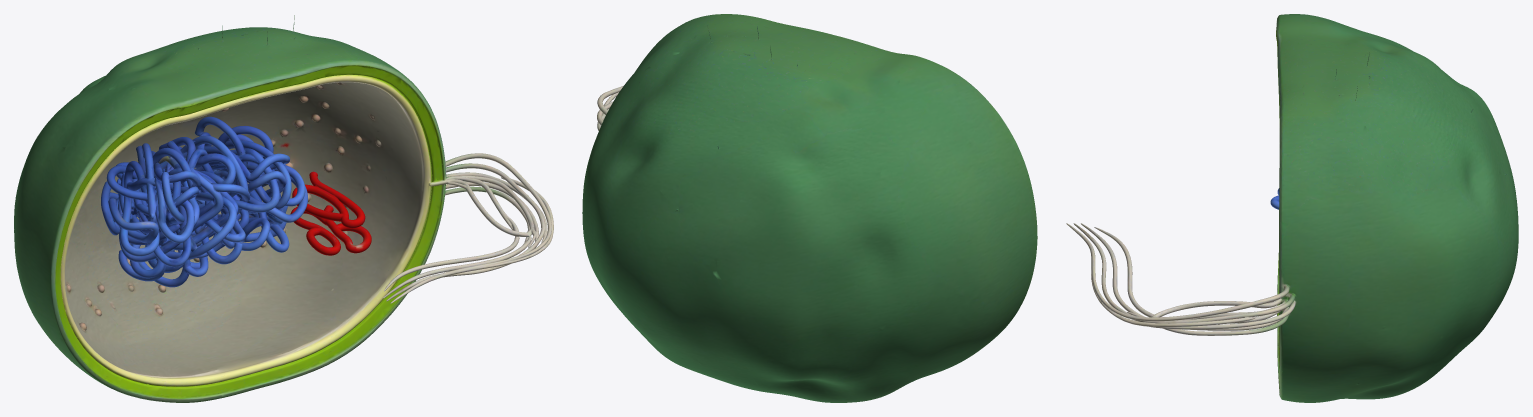
Rendered from bacterial-cell.glb.
3 views of the same model, side by side, from view 1: azimuth 30°, elevation 25°; view 2: azimuth 150°, elevation 25°; view 3: azimuth 270°, elevation 25° (orthographic). The views are drawn at different scales.
Visible parts, largest first — view 1: node_0; view 2: node_0; view 3: node_0.
Boxes of the visible parts, <box> form: node_0: <box>14,15,553,402</box>; node_0: <box>582,14,1037,402</box>; node_0: <box>1066,14,1518,402</box>.
Bounding box in the file's own units: 1.08 × 0.7668 × 0.9588.
1 material, 1 textured.
